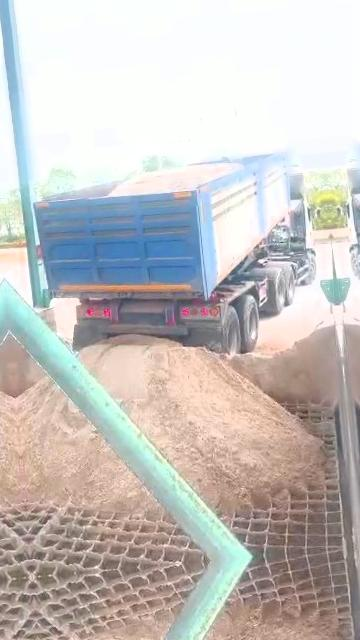sand: (79, 336, 324, 510), (15, 379, 160, 514), (227, 317, 340, 405), (108, 162, 242, 196), (10, 334, 43, 397), (257, 341, 286, 355)
